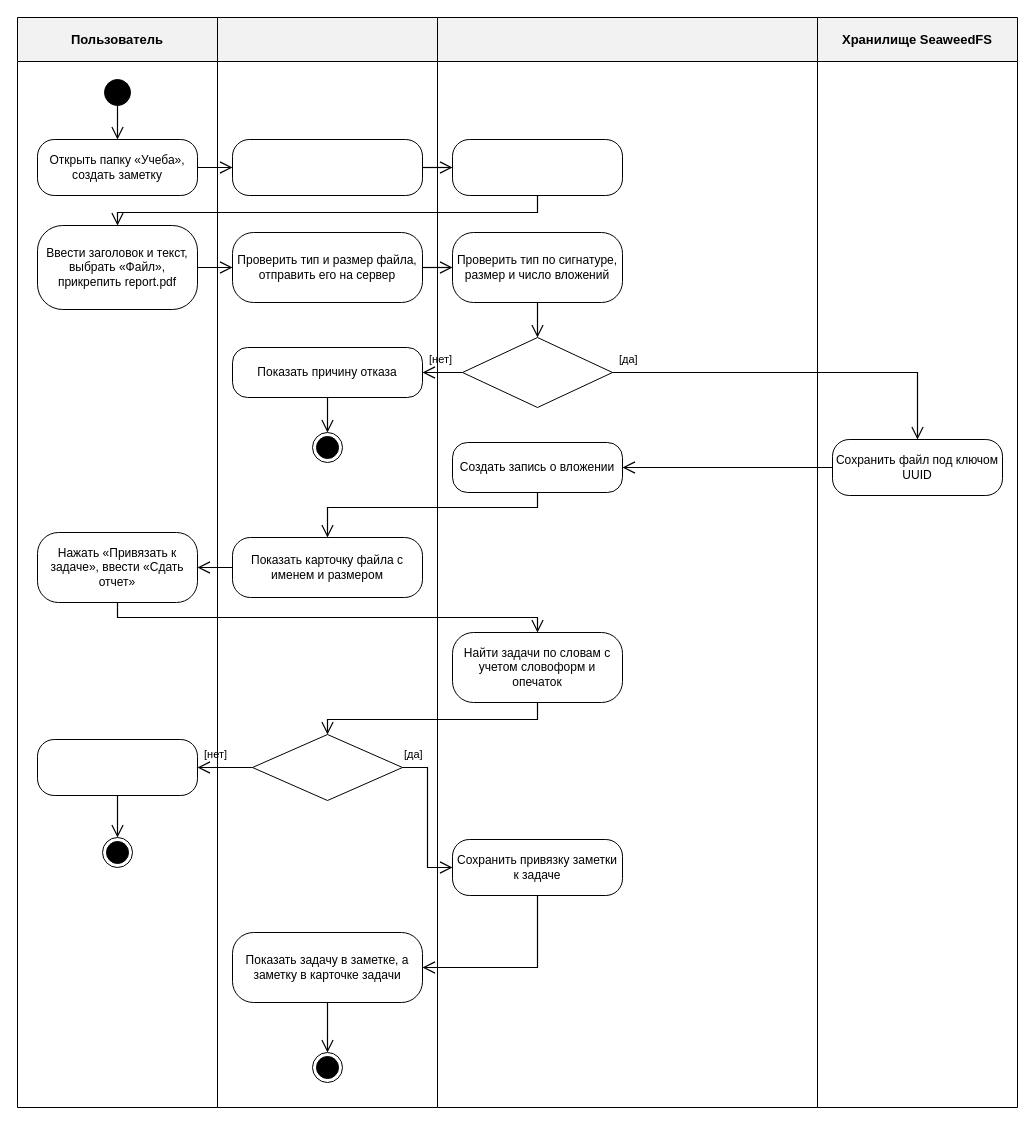
The diagram is 1035 pixels wide and 1125 high, and some of its shapes have lost their labels. Each missing label, with the box of its shape:
Задача найдена?: (252, 734, 402, 800)
Клиентская часть (веб-приложение): (216, 16, 438, 1108)
Отправить запрос на создание заметки: (232, 138, 422, 196)
Серверная часть: (436, 16, 818, 1108)
Создать заметку в папке пользователя: (452, 138, 622, 196)
Сохранить заметку без привязки: (36, 738, 198, 796)
Файл допустим?: (462, 336, 612, 408)
